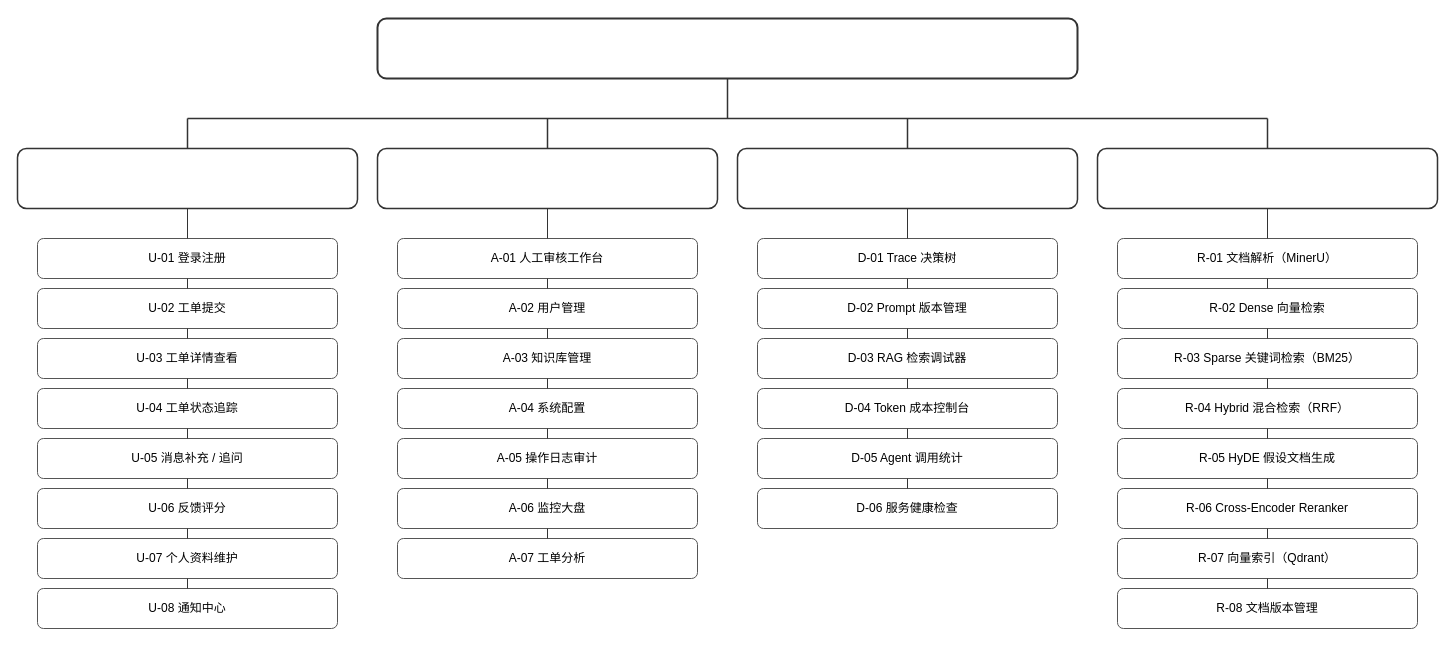
Some shapes in this 1456 by 646 pixel diagram are drawn without their labels. Each missing label, with the centre of its shape:
多智能体工单协同系统（ai-agent-learning v2.0）: (727,48)
开发人员模块（developer）: (907,178)
智能算法模块（RAG）: (1267,178)
用户模块（user）: (187,178)
管理员模块（admin）: (547,178)
